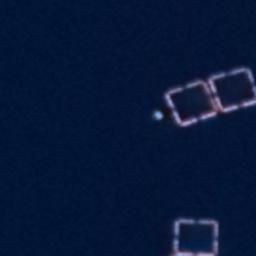square_solid: (163, 77, 222, 133), (204, 64, 256, 117), (168, 211, 221, 256)
